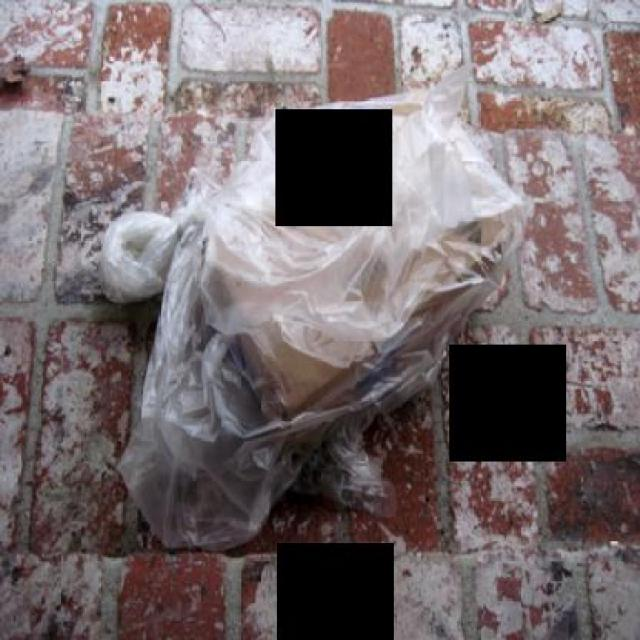plastic bag: (99, 54, 528, 554)
